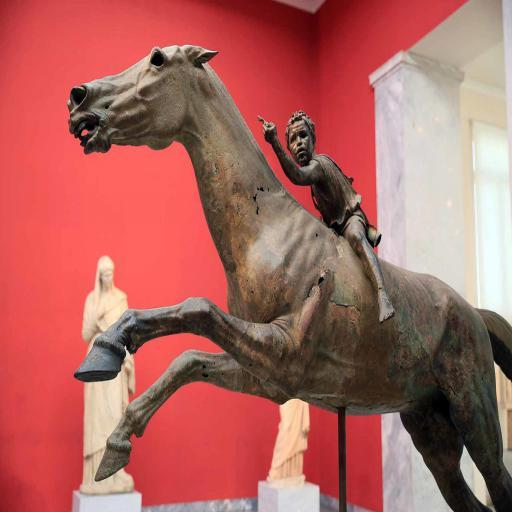Horse: (70, 46, 512, 512)
